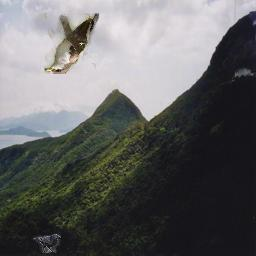Crow: (33, 235, 61, 254)
Cuckoo: (45, 14, 100, 75)
